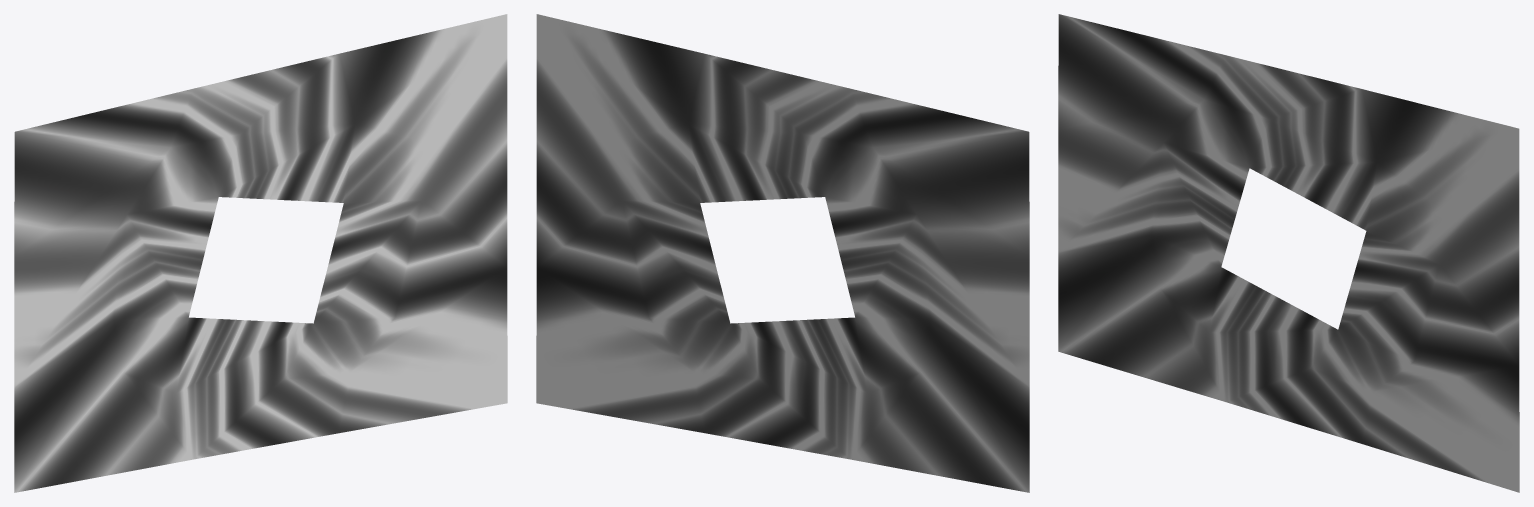
Rendered from ZJM_ui_fpx.FBX.
The picture shows the model from 3 angles, left to right: view 1: azimuth 30°, elevation 25°; view 2: azimuth 150°, elevation 25°; view 3: azimuth 330°, elevation 25°; orthographic projection. The views are drawn at different scales.
Visible parts, largest first — view 1: Plane004; view 2: Plane004; view 3: Plane004.
Part boxes in pixels (x1,y1,x2,y2): Plane004: (14, 14, 507, 492); Plane004: (536, 14, 1029, 492); Plane004: (1058, 14, 1519, 492).
Size of the model in its own units: 3.41 by 4.25e-07 by 2.58.
